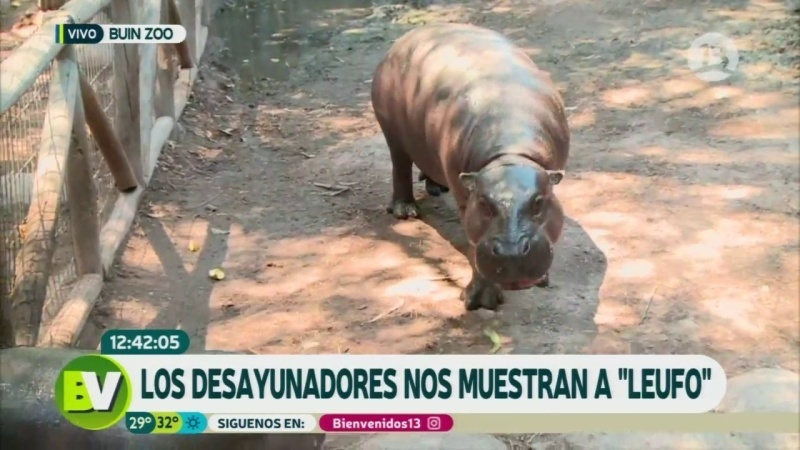hipopotamo: (358, 14, 604, 330)
